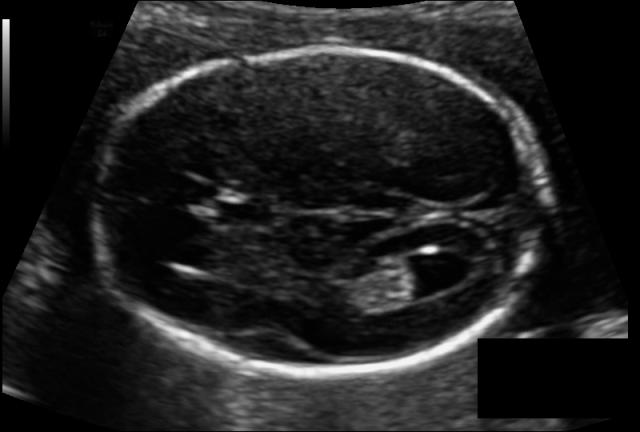CHOROID_PLEXUS: (343, 247, 423, 333)
CSP: (174, 180, 249, 240)
MIDLINE_FALX: (120, 167, 568, 253)
